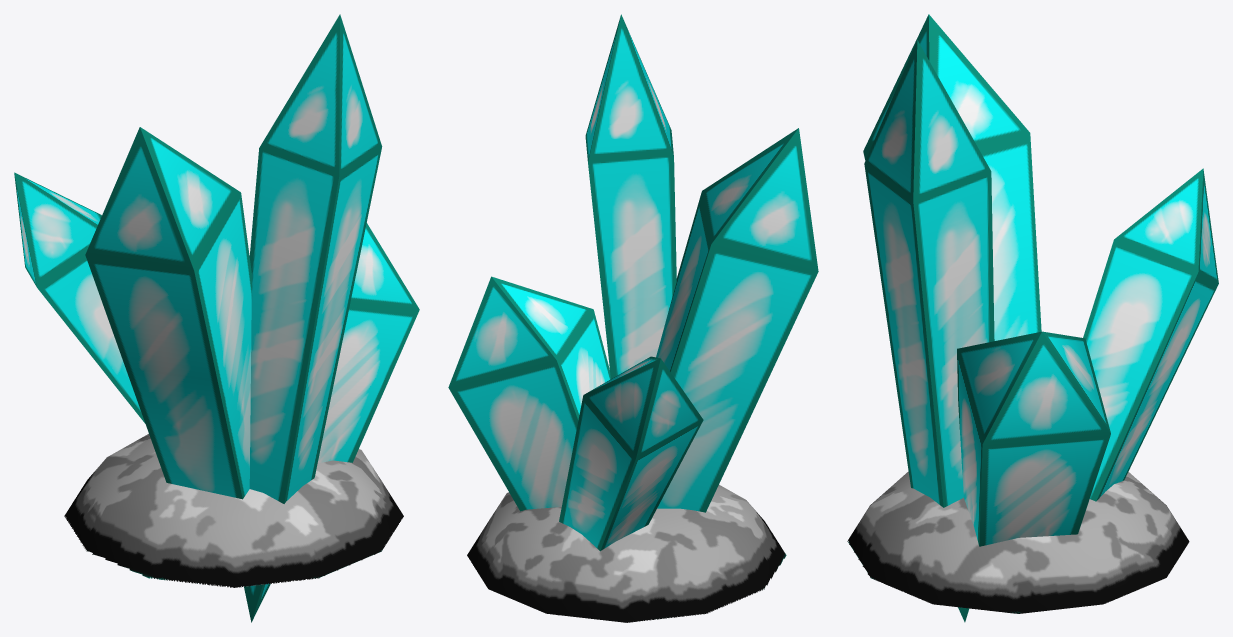
File: crystalMAPPED.FBX
3 renders of one model, left to right at view 1: azimuth 30°, elevation 25°; view 2: azimuth 150°, elevation 25°; view 3: azimuth 270°, elevation 25°, orthographic. The views are drawn at different scales.
Visible parts, largest first — view 1: Box003; view 2: Box003; view 3: Box003.
Part boxes in pixels (box(x1,y1,x2,y2)): Box003: box(14, 14, 419, 622); Box003: box(448, 14, 818, 622); Box003: box(847, 14, 1218, 622).
Bounding box in the file's own units: 100 × 170 × 93.17.
